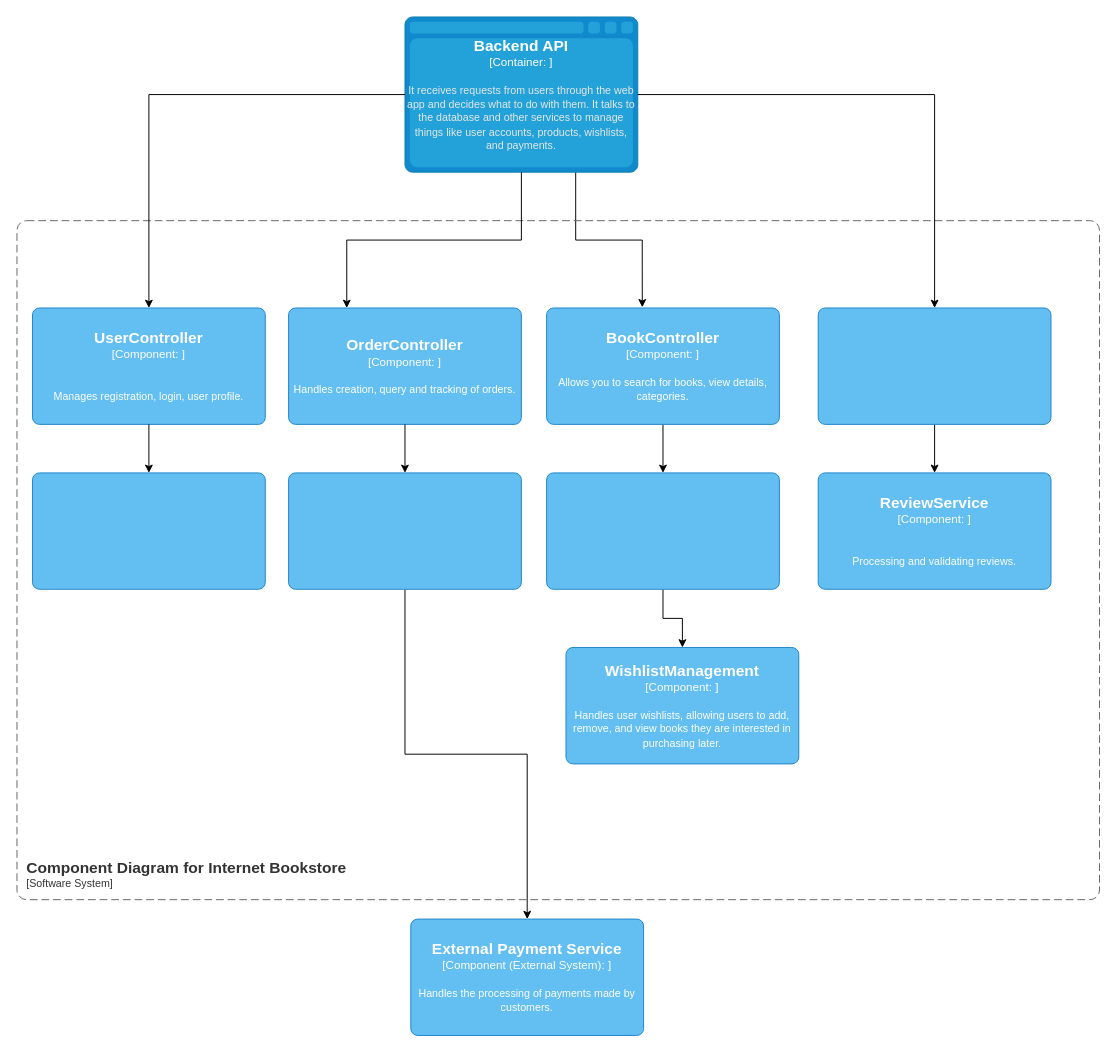
The diagram is 1116 pixels wide and 1052 high, and some of its shapes have lost their labels. The shapes that lost their labels are listed below. From the top down, each one's centre as x and y in pixels, then its label:
the point at 934,365: ReviewController [Component: ] Publication and moderation of reviews.
the point at 148,530: UserService [Component: ] Contains business logic for users.
the point at 404,530: OrderService [Component: ] Logic for orders and payments.
the point at 662,530: BookService [Component: ] Business logic for books.
